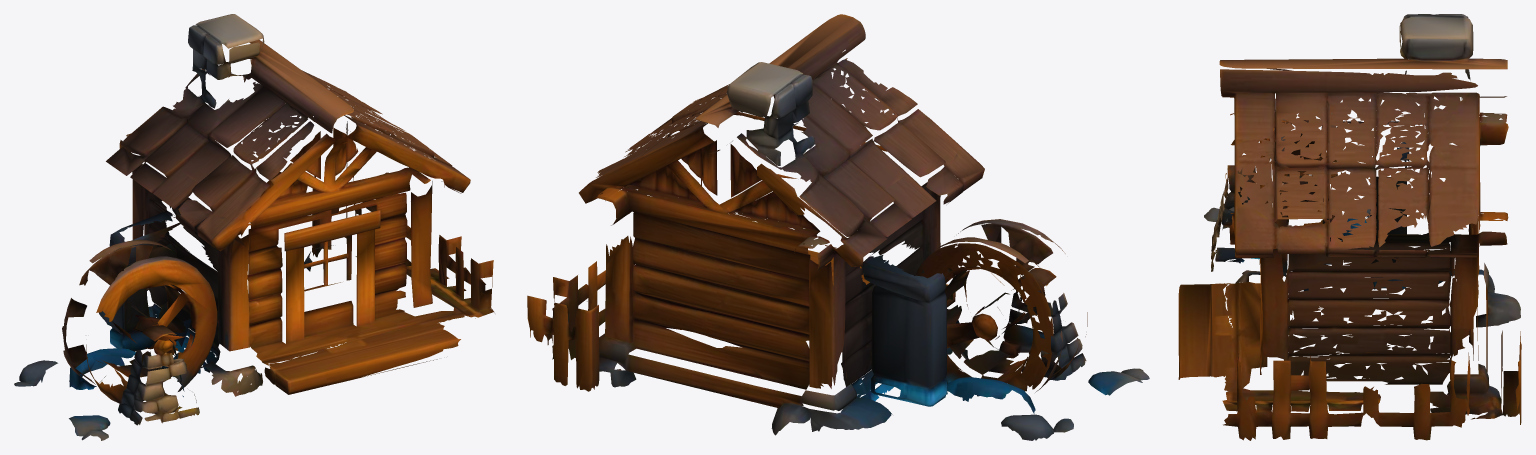
Rendered from sawmill_github.glb.
The picture shows the model from 3 angles, left to right: view 1: azimuth 30°, elevation 25°; view 2: azimuth 150°, elevation 25°; view 3: azimuth 270°, elevation 25°; orthographic projection. The views are drawn at different scales.
Visible parts, largest first — view 1: sawmill_github; view 2: sawmill_github; view 3: sawmill_github.
Boxes of the visible parts, x1=… form: sawmill_github: x1=14, y1=14, x2=494, y2=440; sawmill_github: x1=527, y1=14, x2=1149, y2=440; sawmill_github: x1=1178, y1=14, x2=1521, y2=440.
Bounding box in the file's own units: 0.8205 × 0.5264 × 0.5142.
Materials: 1 (1 with a texture image).
